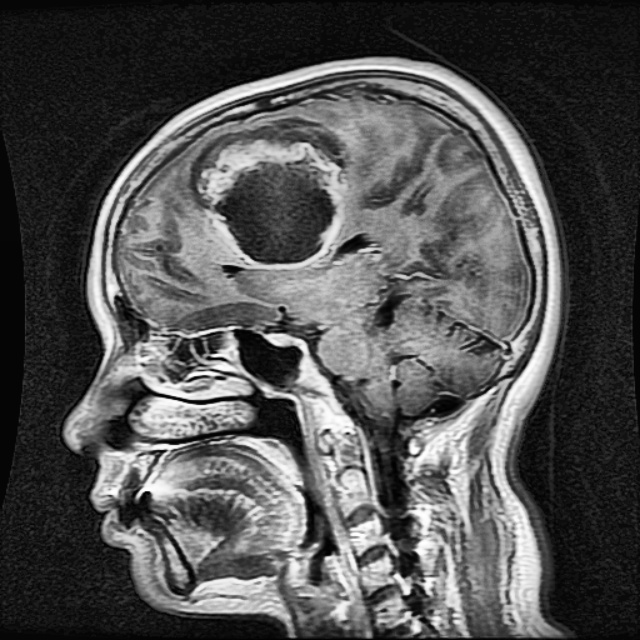Meningioma: (193, 113, 350, 272)
